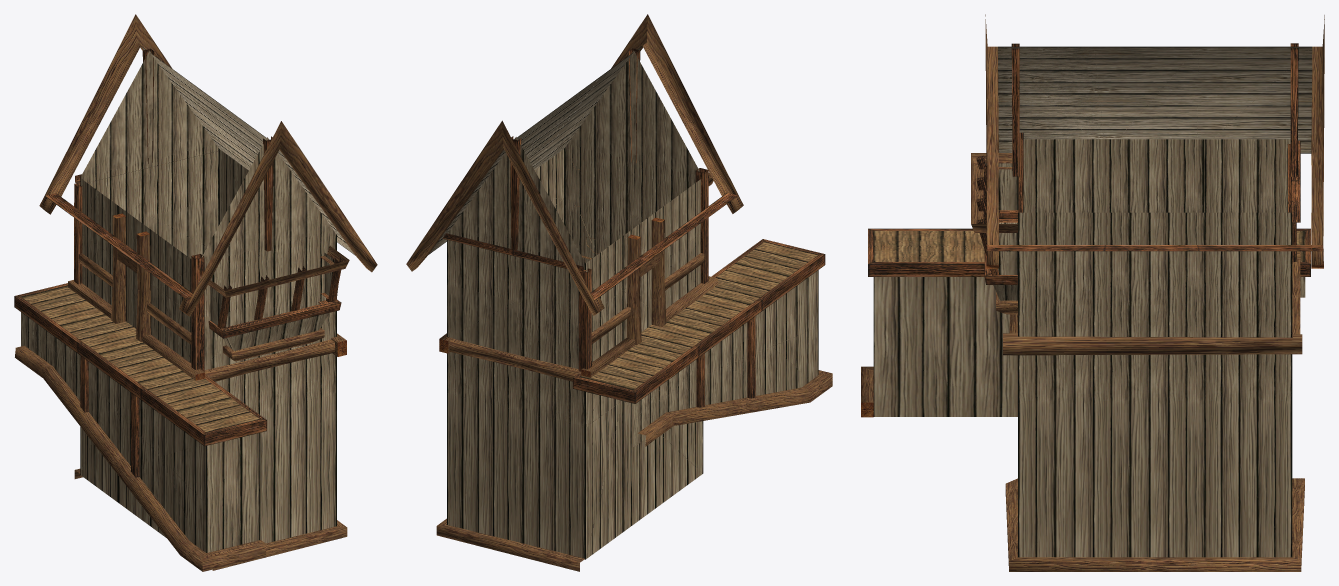
The model's file is LAKETOWN_EXTERIOR_PS_LT_FISHHOUSE756__GX.fbx.
The picture shows the model from 3 angles, left to right: view 1: azimuth 30°, elevation 25°; view 2: azimuth 150°, elevation 25°; view 3: azimuth 270°, elevation 25°; orthographic projection. The views are drawn at different scales.
Visible parts, largest first — view 1: LAKETOWN_EXTERIOR_PS_LT_FISHHOUSE756__GX; view 2: LAKETOWN_EXTERIOR_PS_LT_FISHHOUSE756__GX; view 3: LAKETOWN_EXTERIOR_PS_LT_FISHHOUSE756__GX.
Part boxes in pixels (x1,y1,x2,y2): LAKETOWN_EXTERIOR_PS_LT_FISHHOUSE756__GX: (14, 14, 377, 571); LAKETOWN_EXTERIOR_PS_LT_FISHHOUSE756__GX: (406, 14, 832, 571); LAKETOWN_EXTERIOR_PS_LT_FISHHOUSE756__GX: (861, 14, 1324, 571).
Bounding box in the file's own units: 74171 × 136930 × 111812.
Materials: 7 (7 with a texture image).
